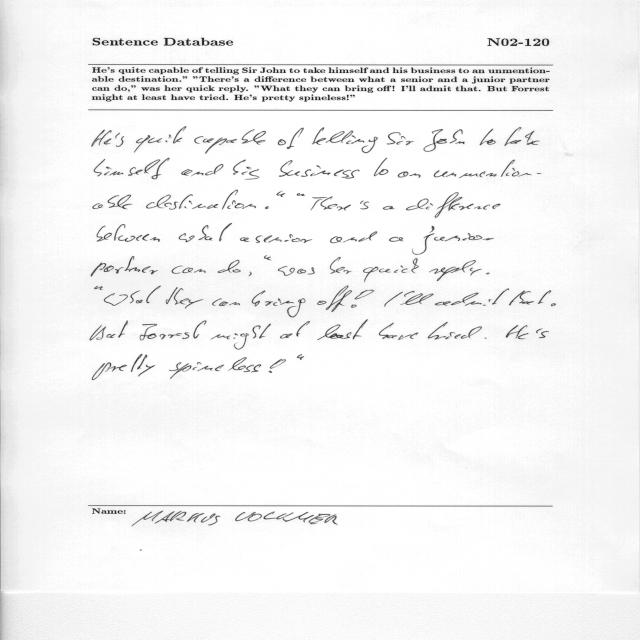word: (406, 192, 500, 218), (412, 226, 494, 255), (146, 190, 256, 210), (169, 357, 261, 379), (434, 160, 541, 178), (194, 129, 266, 154), (312, 127, 378, 153), (92, 355, 155, 381), (94, 158, 170, 179), (210, 324, 271, 350), (279, 160, 360, 179), (252, 290, 306, 318), (91, 256, 158, 277), (134, 127, 186, 153), (363, 258, 419, 282), (140, 321, 207, 341), (435, 288, 509, 306), (104, 286, 161, 306), (97, 224, 160, 242), (429, 260, 482, 281), (317, 320, 368, 340), (179, 223, 232, 242), (423, 129, 465, 152), (428, 322, 482, 339), (317, 286, 352, 312), (166, 287, 203, 309), (90, 321, 128, 341), (504, 127, 540, 146), (379, 323, 418, 340), (509, 291, 551, 306), (311, 196, 351, 211), (330, 231, 377, 243), (93, 195, 133, 209), (278, 128, 304, 149), (280, 321, 310, 339), (233, 160, 259, 180), (256, 234, 313, 243), (181, 164, 223, 176), (400, 291, 434, 305), (351, 290, 374, 308), (330, 257, 352, 274), (278, 266, 315, 276), (387, 132, 414, 145), (92, 130, 112, 147), (506, 325, 528, 339), (218, 260, 241, 273), (384, 292, 403, 307), (479, 129, 496, 145), (172, 266, 206, 274), (374, 158, 388, 176), (269, 359, 286, 373), (212, 298, 240, 306), (398, 171, 420, 178), (536, 329, 549, 339), (115, 133, 124, 147), (360, 201, 370, 210), (389, 237, 403, 242), (277, 191, 285, 197), (383, 206, 395, 210), (240, 237, 249, 242), (297, 354, 304, 360), (94, 286, 103, 290), (264, 256, 271, 260), (297, 193, 305, 196), (551, 304, 556, 307), (265, 206, 269, 209), (249, 272, 252, 276), (486, 273, 489, 275), (485, 337, 487, 339)
